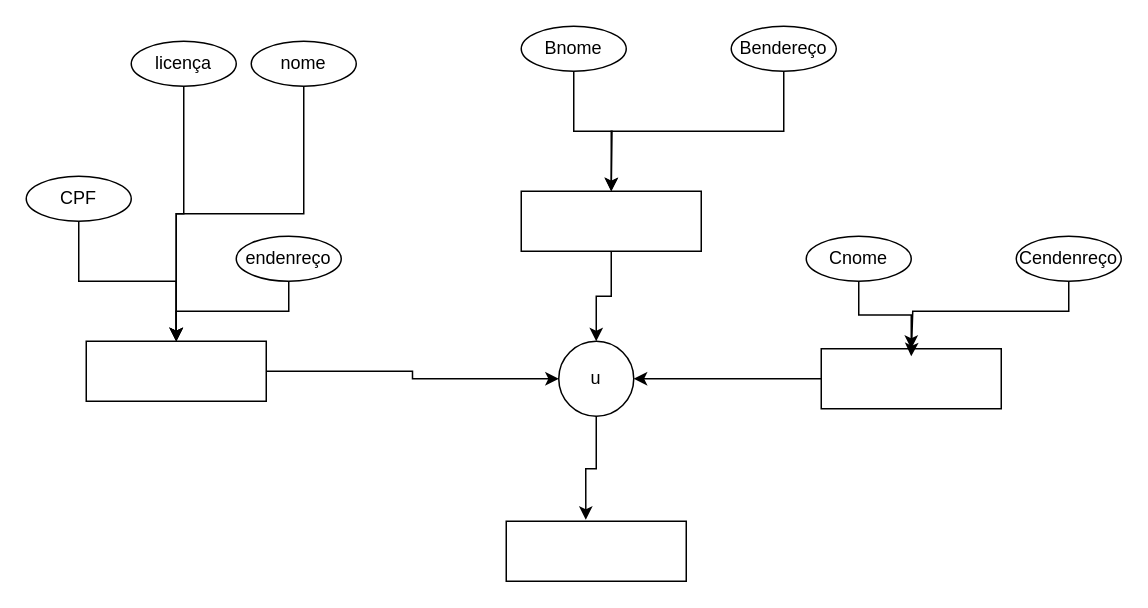
The diagram is 1148 pixels wide and 608 high, and some of its shapes have lost their labels. The centre of each missing label's shape, as x and y in pixels:
"Banco" goes at (610,220).
"Company" goes at (910,378).
"Owner" goes at (595,550).
"Pessoa" goes at (175,370).
